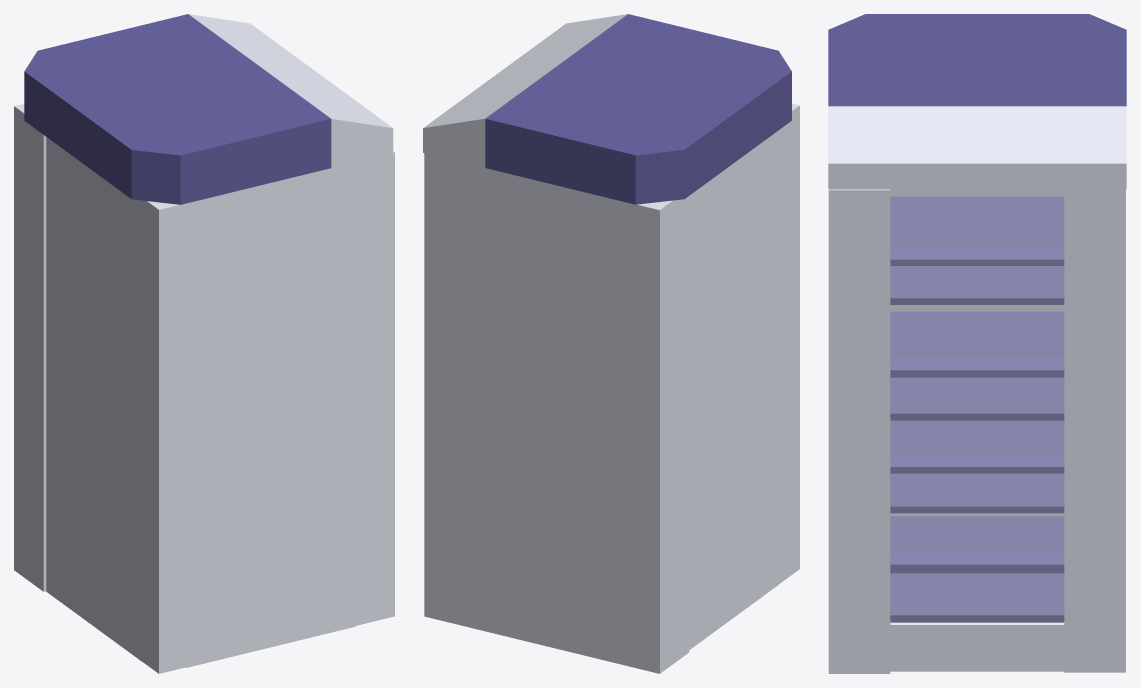
The model's file is fridge.fbx.
3 renders of one model, left to right at view 1: azimuth 30°, elevation 25°; view 2: azimuth 150°, elevation 25°; view 3: azimuth 270°, elevation 25°, orthographic. The views are drawn at different scales.
Visible parts, largest first — view 1: mergedBlocks; view 2: mergedBlocks; view 3: mergedBlocks.
Boxes of the visible parts, x1,y1,x2,y2 form: mergedBlocks: (14,14,394,673); mergedBlocks: (423,14,799,673); mergedBlocks: (828,14,1126,673).
Bounding box in the file's own units: 10.41 × 21.2 × 10.51.
